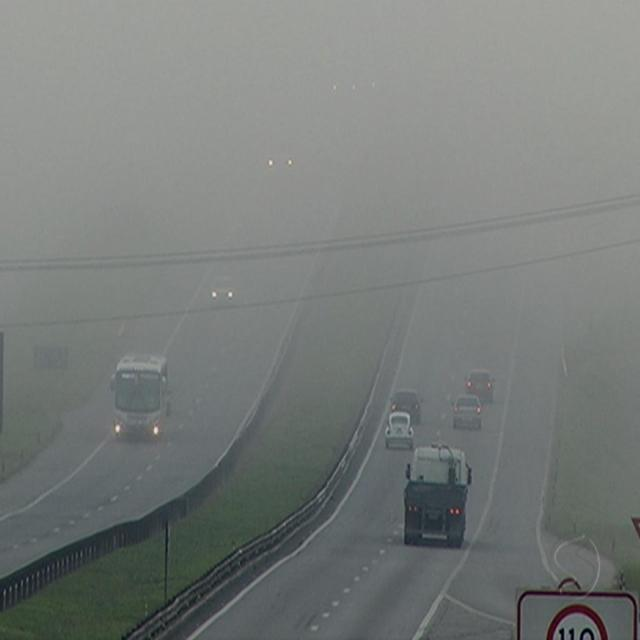Bus: (97, 329, 181, 452)
Car: (459, 365, 503, 400), (388, 381, 422, 425), (451, 396, 485, 426), (383, 414, 415, 444)
Truck: (392, 437, 478, 549)
